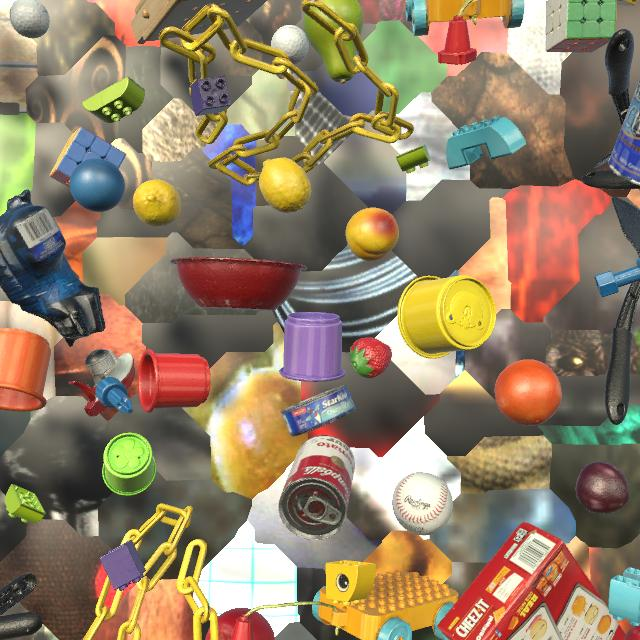ycb_002_master_chef_can: (608, 79, 640, 186)
ycb_003_cracker_box: (437, 522, 626, 640)
ycb_005_tomato_soup_can: (279, 435, 355, 540)
ycb_007_tuna_fish_can: (280, 384, 355, 437)
ycb_012_strawberry: (350, 337, 392, 378)
ycb_013_apple: (205, 608, 275, 640), (624, 625, 640, 640)
ycb_014_lemon: (259, 157, 311, 213), (133, 180, 181, 227)
ycb_015_peach: (346, 208, 399, 261)
ycb_016_pear: (303, 0, 364, 84)
ycb_017_orange: (495, 359, 562, 426)
ycb_018_plum: (576, 462, 630, 514)
